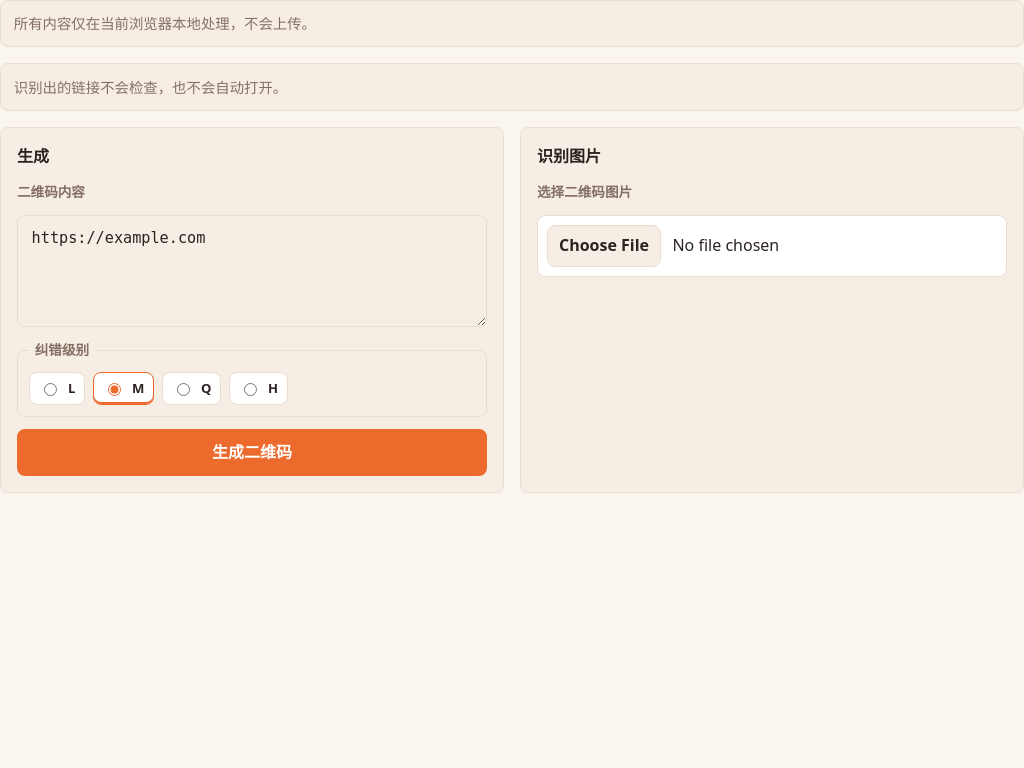
Test: surfaces the generation limit for rejected content
This screenshot has width=1024, height=768.
Clear the text box labelled "二维码内容" at (252, 271), box [17,215,487,327]
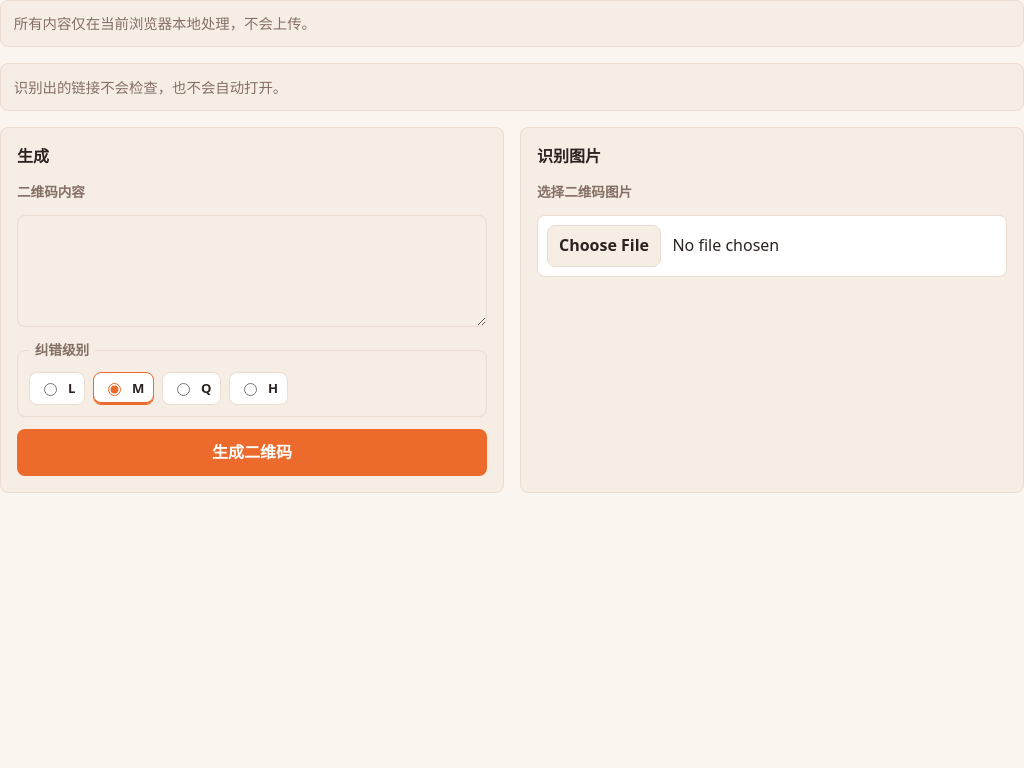
Click the button "生成二维码" at (252, 452), box [17,429,487,476]
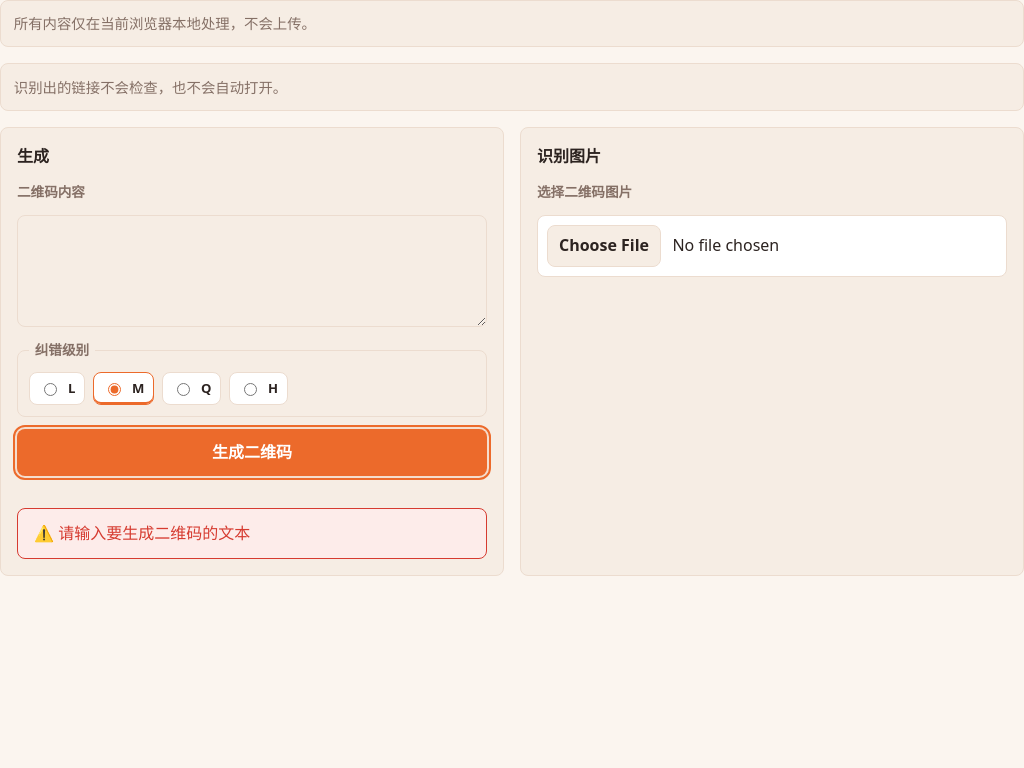
Now the message shows "请输入要生成二维码的文本", box [58,522,250,544]
